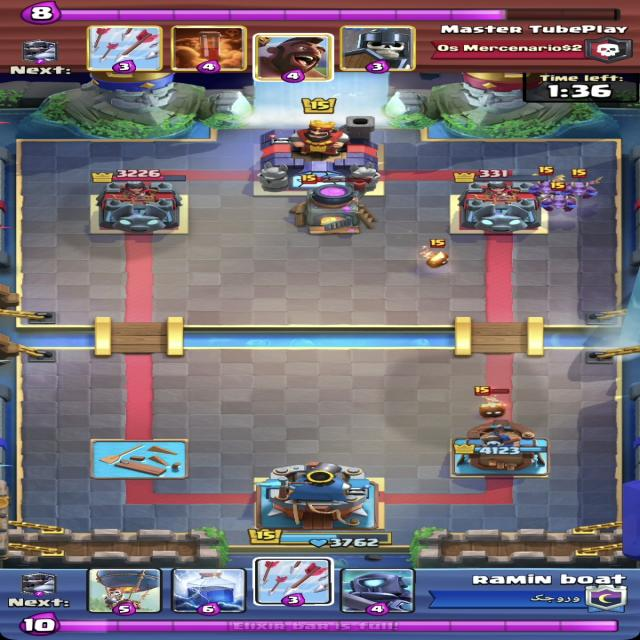Enemy-FireSpirit: (472, 385, 511, 418), (419, 238, 454, 269)
Enemy-Furnace: (289, 174, 379, 235)
Enemy-Minion: (558, 168, 604, 200), (527, 167, 566, 197), (540, 182, 578, 212)
